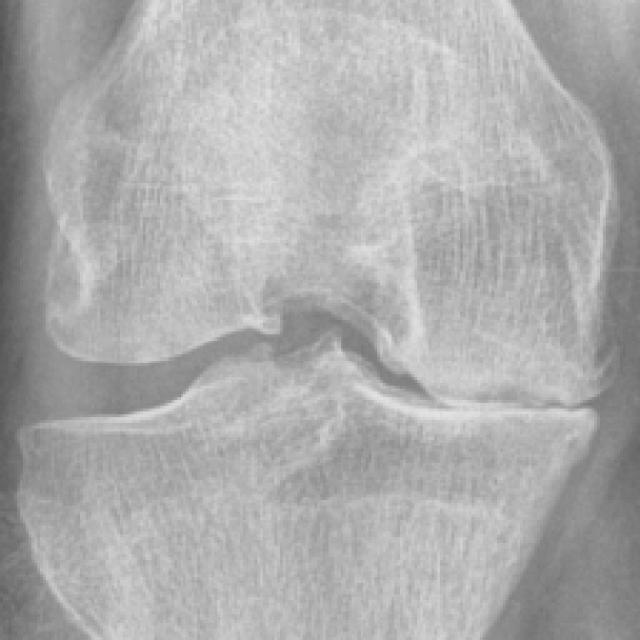femur: (42, 0, 623, 405)
tibia: (13, 329, 604, 640)
